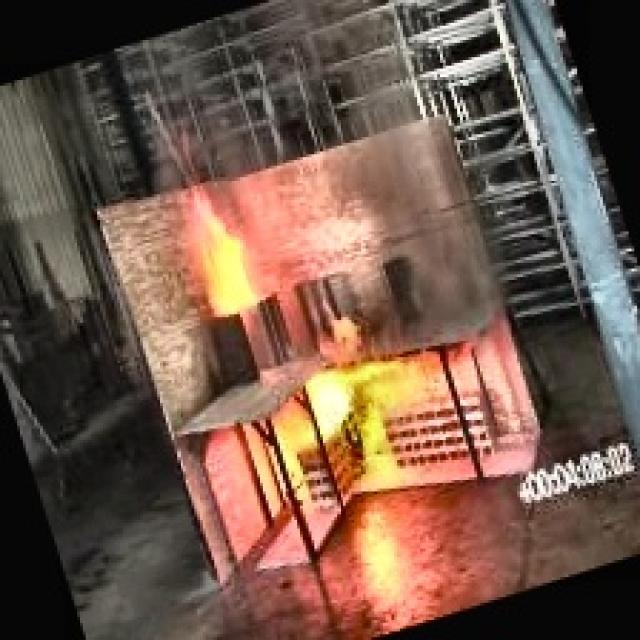fire: (143, 126, 317, 357), (277, 314, 440, 480)
